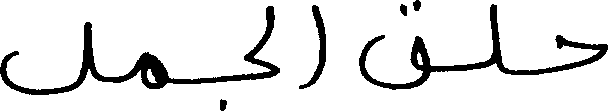ا: (301, 2, 328, 89)
ج: (211, 52, 280, 110)
ح: (555, 32, 606, 71)
ق: (356, 0, 430, 91)
ل: (0, 20, 93, 96), (242, 3, 279, 56), (487, 1, 501, 73)
م: (139, 50, 167, 89)
